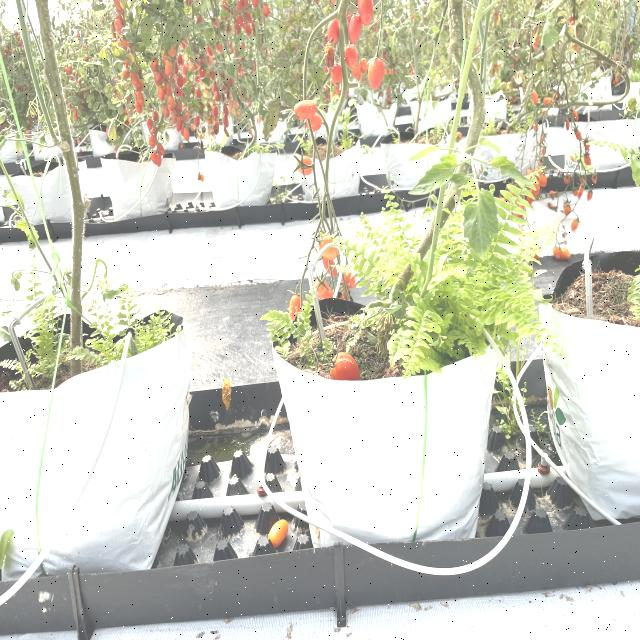Obstacle: (1, 340, 133, 603), (309, 234, 358, 343), (584, 226, 598, 320)
Soilbag: (0, 324, 191, 609), (273, 349, 500, 548), (541, 302, 640, 527)
plant: (267, 94, 591, 385), (0, 158, 138, 391)
